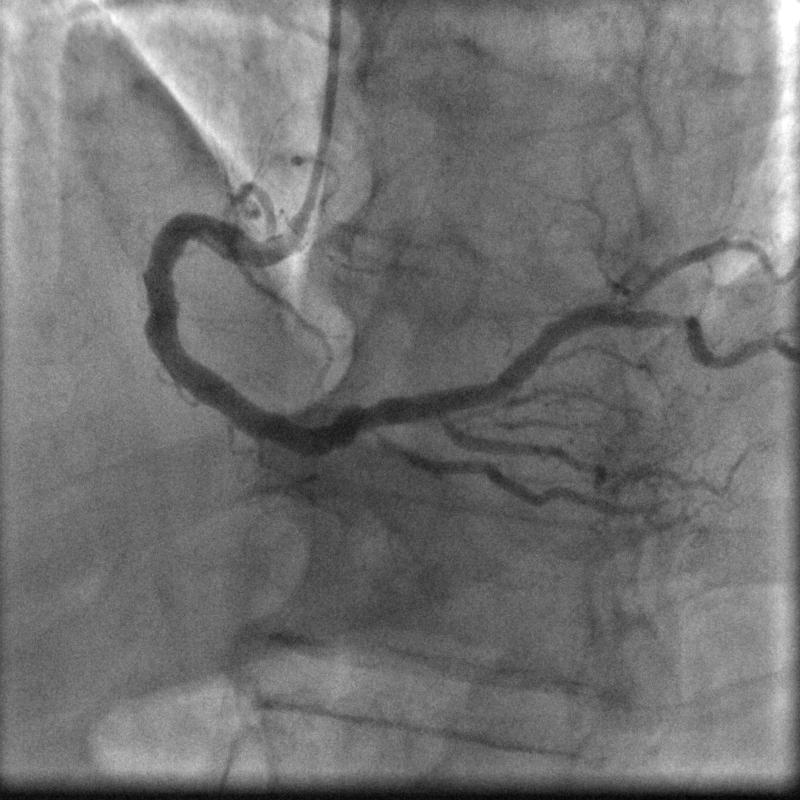Stenosis: (644, 306, 700, 336)
